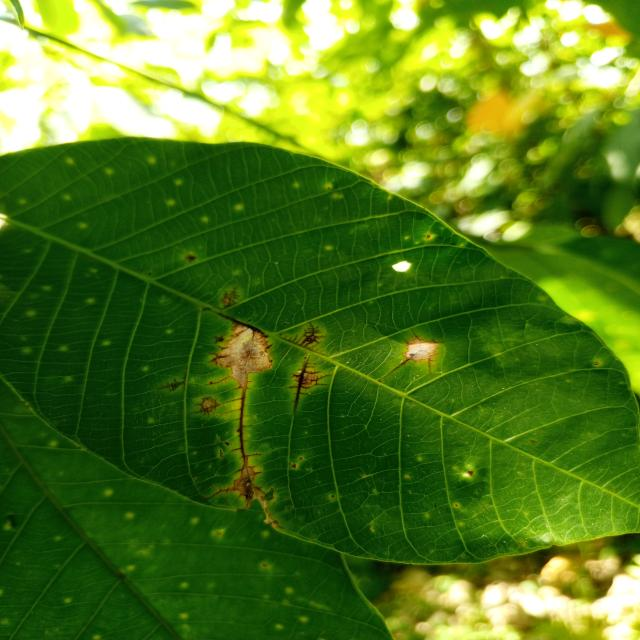Colletotrichum: (331, 495, 335, 498), (298, 458, 302, 460)
Corynespora: (224, 387, 262, 473), (285, 362, 332, 413), (280, 322, 328, 356), (216, 313, 266, 335), (218, 286, 240, 310), (207, 485, 236, 499), (156, 378, 184, 392), (190, 404, 220, 417), (388, 359, 409, 375), (206, 353, 229, 364)
Leaf-Blight: (217, 325, 271, 386), (234, 467, 276, 526), (406, 338, 436, 361)
